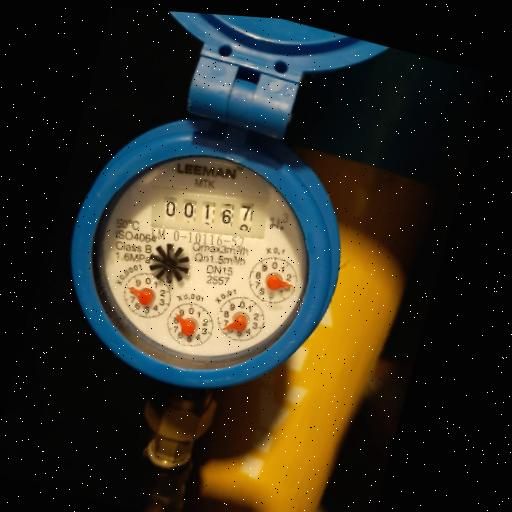0: (177, 196, 200, 226), (158, 195, 181, 224)
1: (197, 199, 220, 228)
6: (215, 200, 238, 230)
7: (233, 201, 257, 235)
border_water_meter_number: (139, 167, 276, 257)
